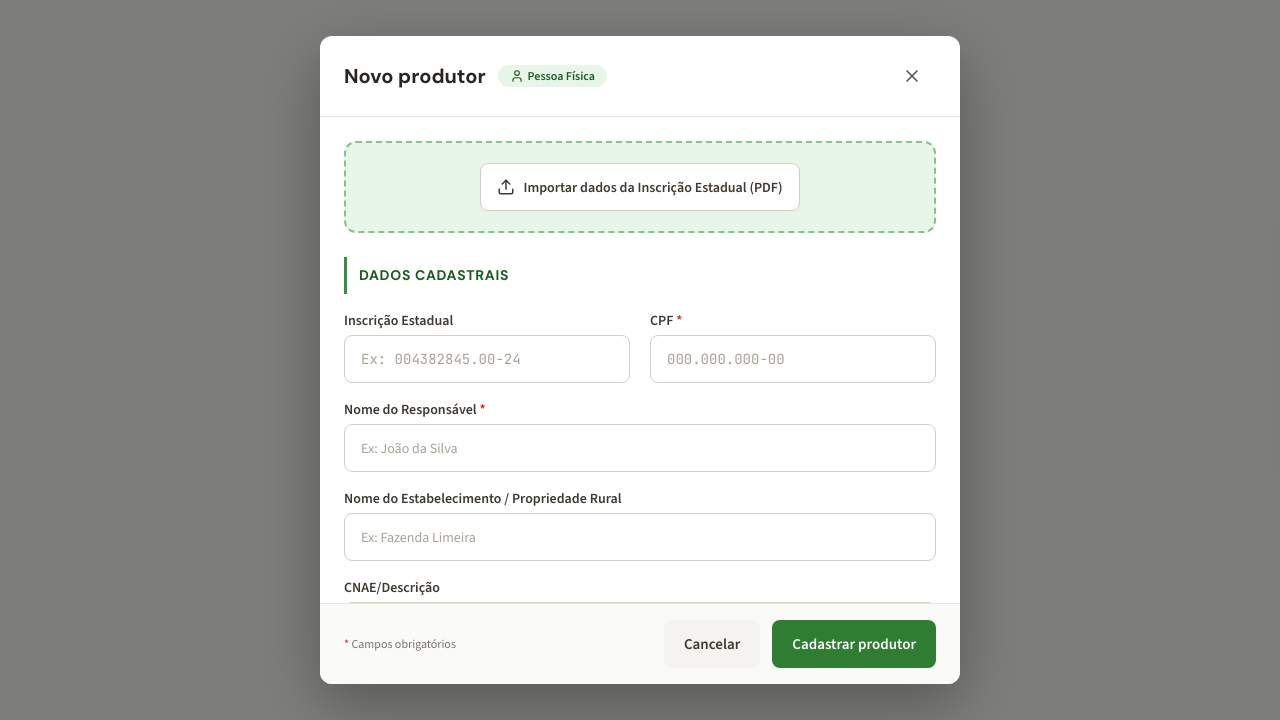
it: ProducerPFFormModal › should validate CPF with wrong digit count
Type "123456" into the field labelled "CPF *" at (793,359), box [650,335,936,383]
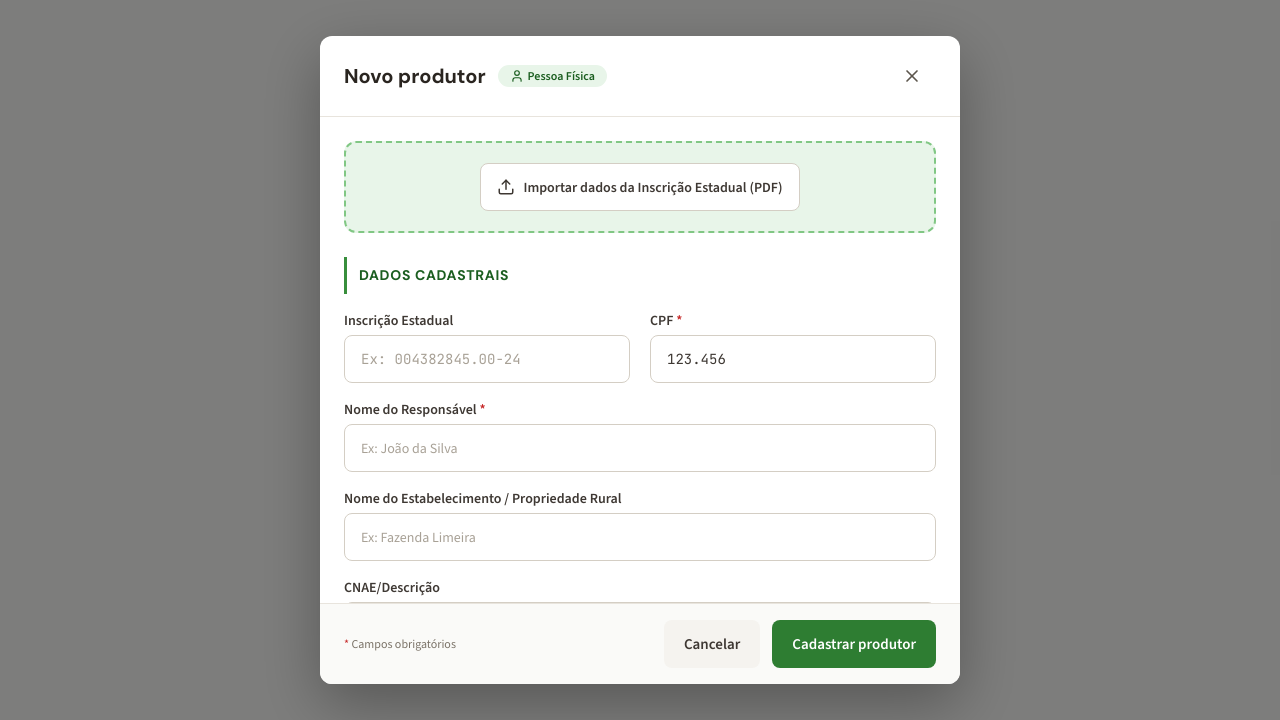
Leave the field labelled "CPF *", box [650,335,936,383]
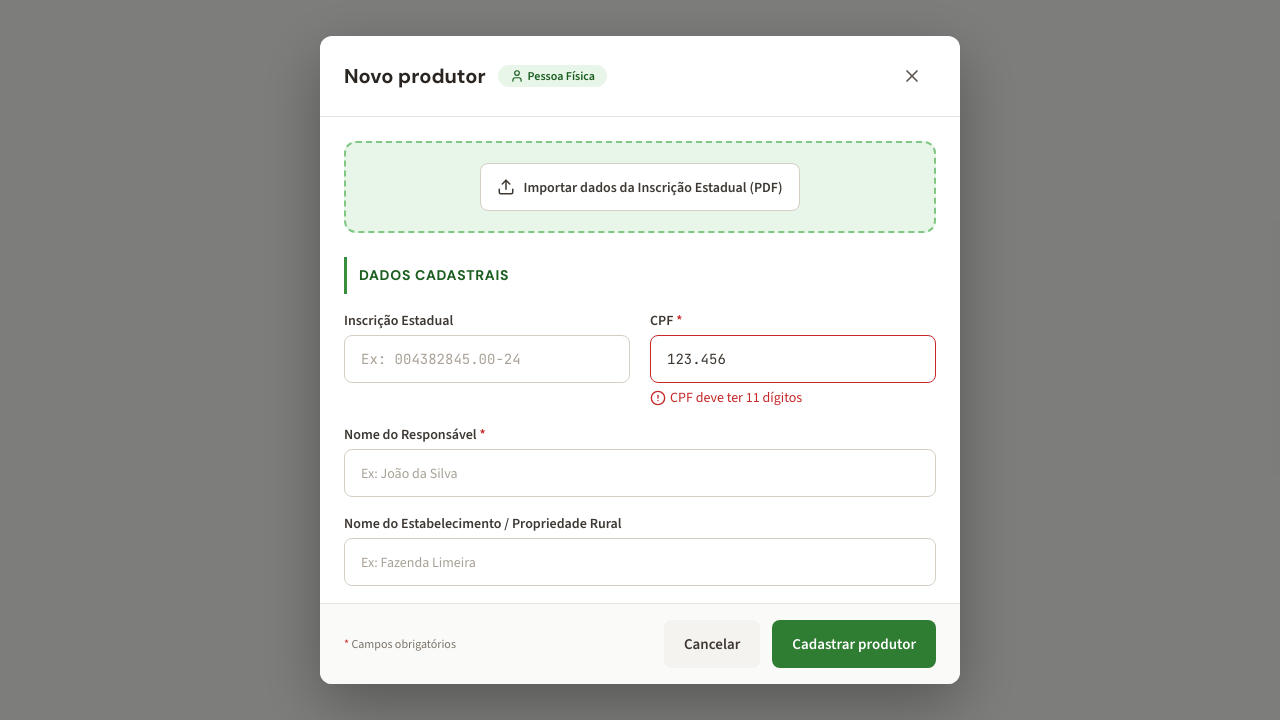
Now the text "CPF deve ter 11 dígitos" is shown, box [650,388,802,407]
